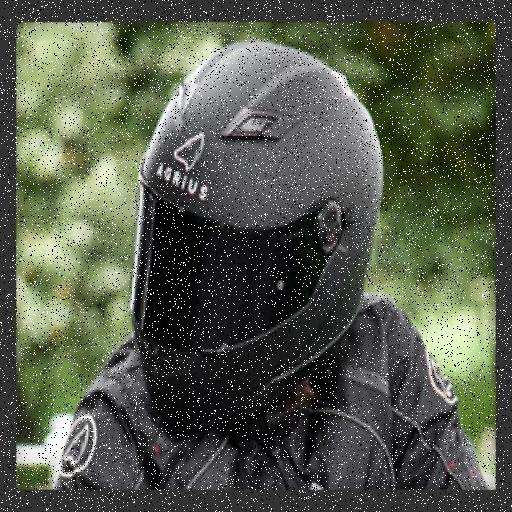Helmet: (108, 46, 370, 408)
